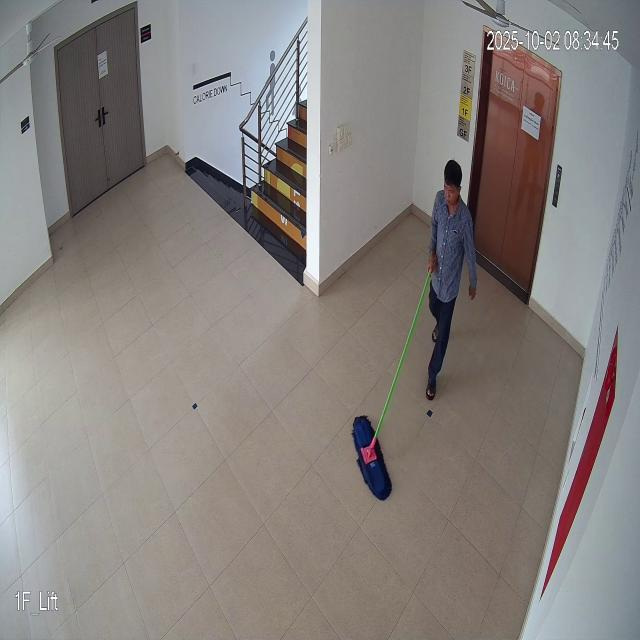face: (443, 156, 466, 214)
